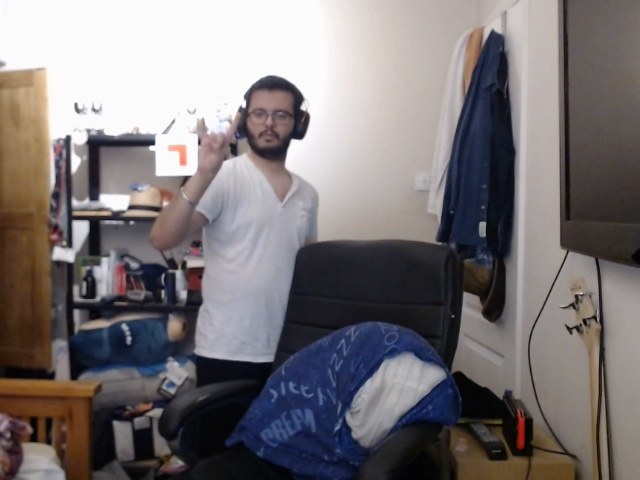Rock on: (177, 105, 245, 189)
